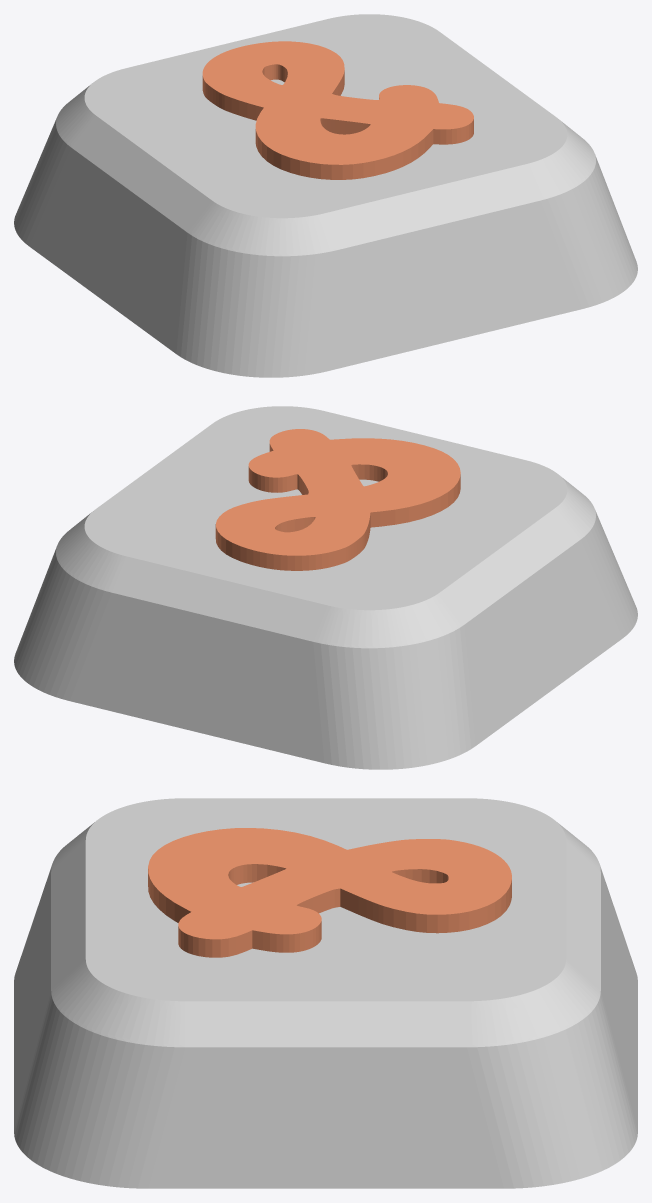
File: cap-ampersand.glb
3 renders of one model, top to bottom at view 1: azimuth 30°, elevation 25°; view 2: azimuth 150°, elevation 25°; view 3: azimuth 270°, elevation 25°, orthographic. The views are drawn at different scales.
Visible parts, largest first — view 1: cap_0, glyph_1; view 2: cap_0, glyph_1; view 3: cap_0, glyph_1.
Boxes of the visible parts, <box> form: cap_0: <box>14,14,637,377</box>; glyph_1: <box>202,41,473,179</box>; cap_0: <box>14,406,637,769</box>; glyph_1: <box>215,429,460,570</box>; cap_0: <box>14,798,637,1188</box>; glyph_1: <box>148,828,511,957</box>.
Bounding box in the file's own units: 18 × 5.59 × 18.
